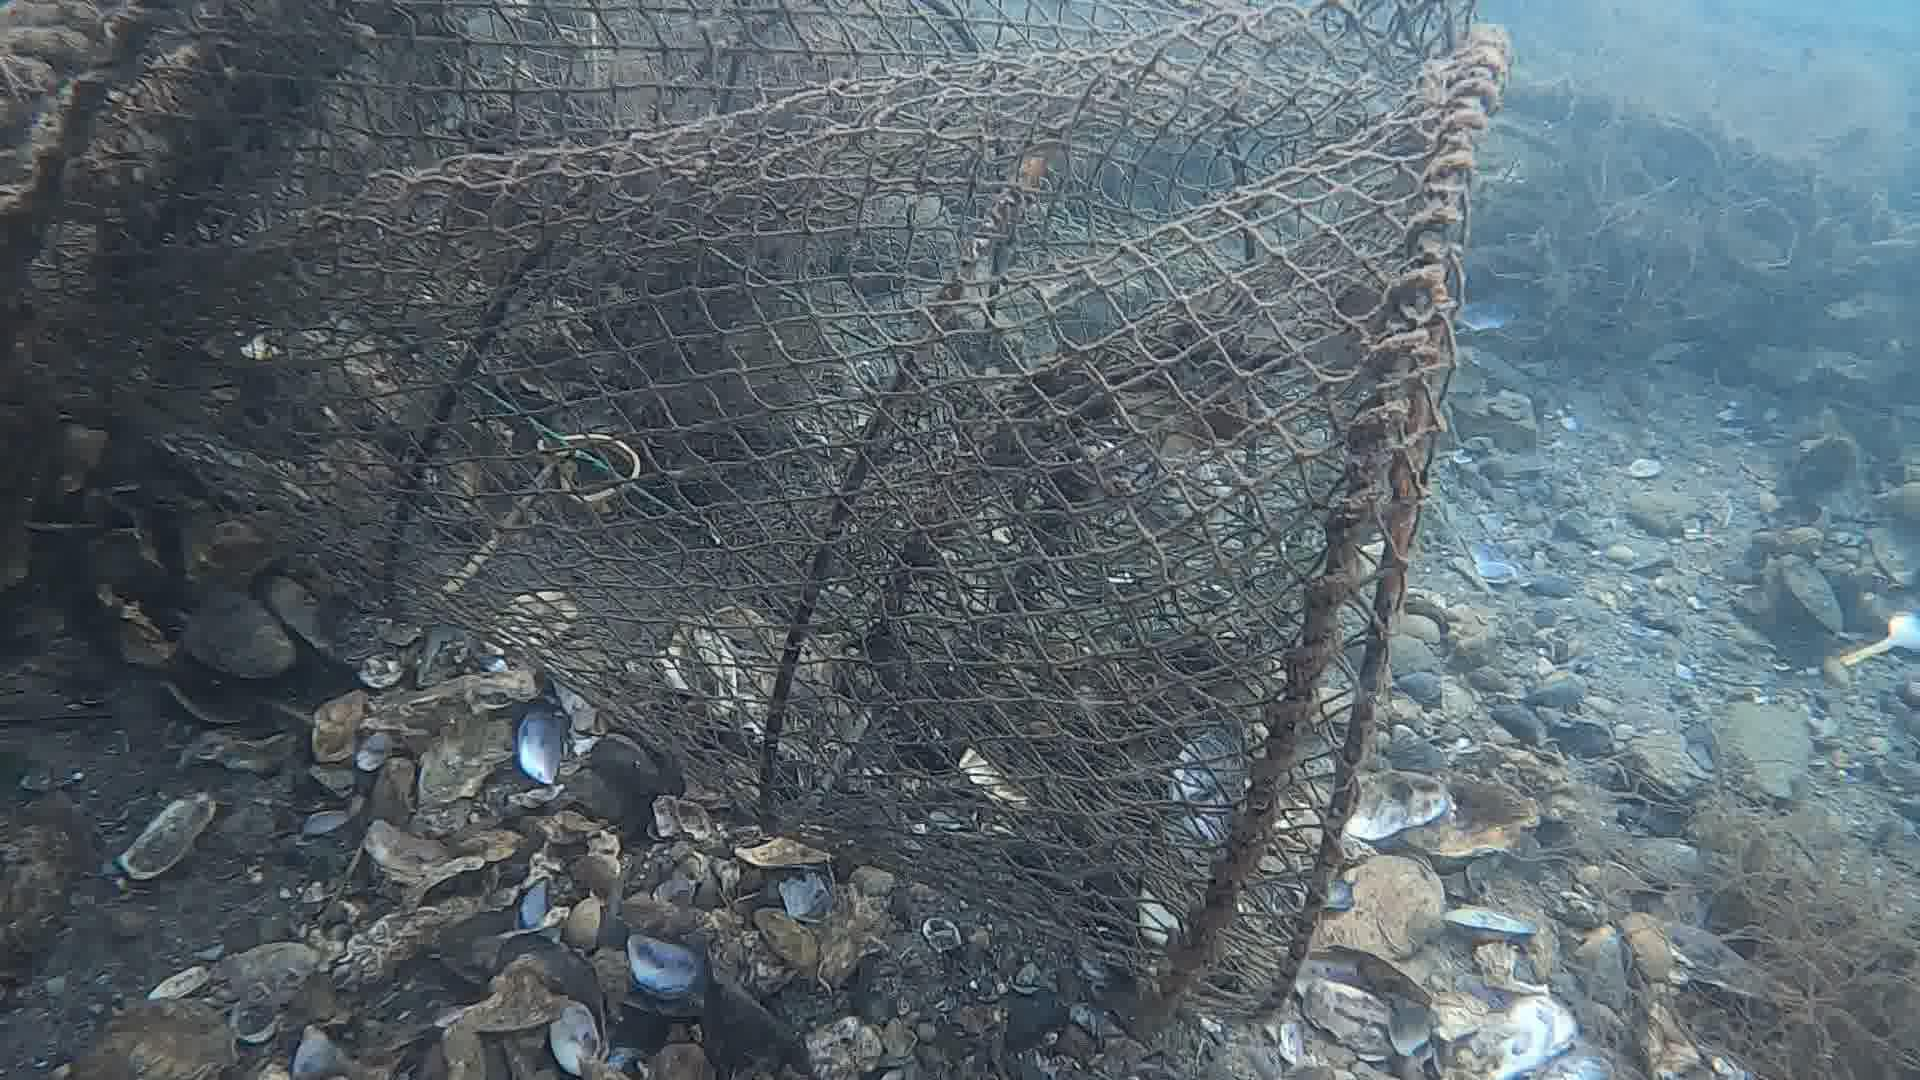spring fish trap: (0, 1, 1510, 1021)
